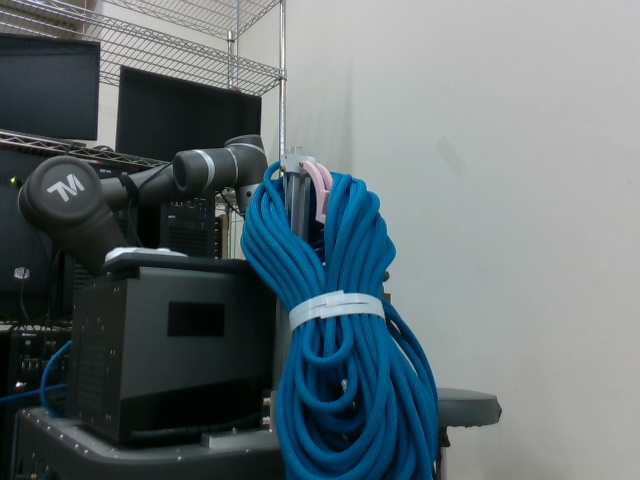rope: (236, 165, 443, 480)
